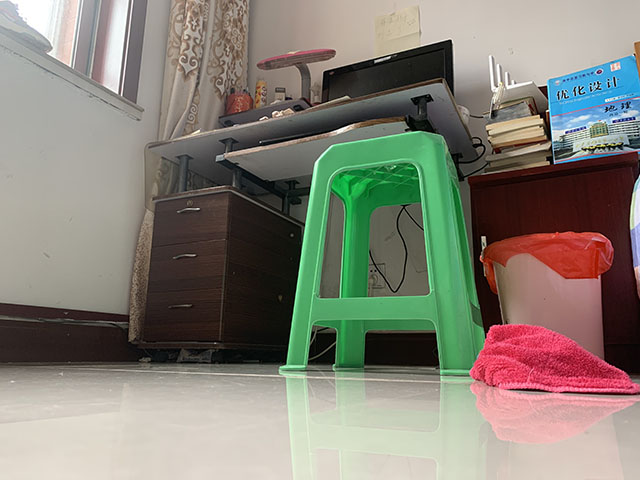cabinet: (467, 151, 638, 376)
stool: (277, 129, 485, 376)
table: (140, 78, 480, 364)
trashcan: (478, 229, 615, 360)
wire: (306, 132, 488, 365)
